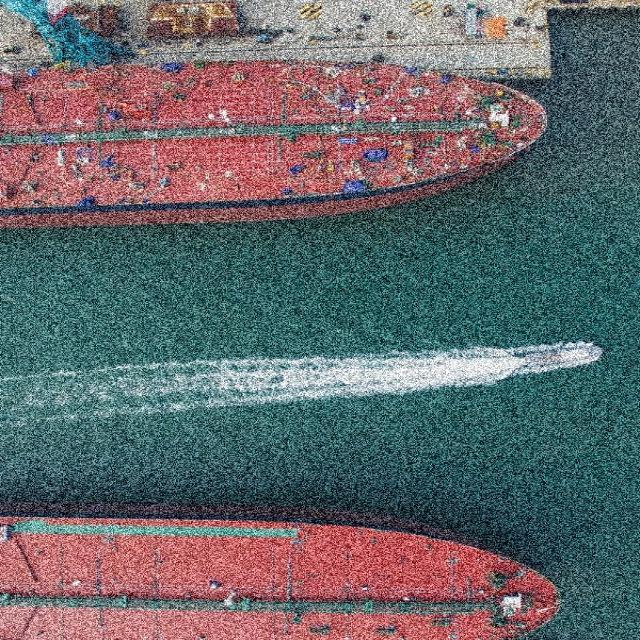ship2: (0, 57, 546, 232), (0, 512, 561, 639)
